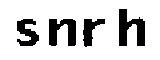h: (116, 4, 147, 49)
n: (45, 17, 77, 48)
r: (82, 17, 108, 48)
s: (14, 17, 39, 48)
